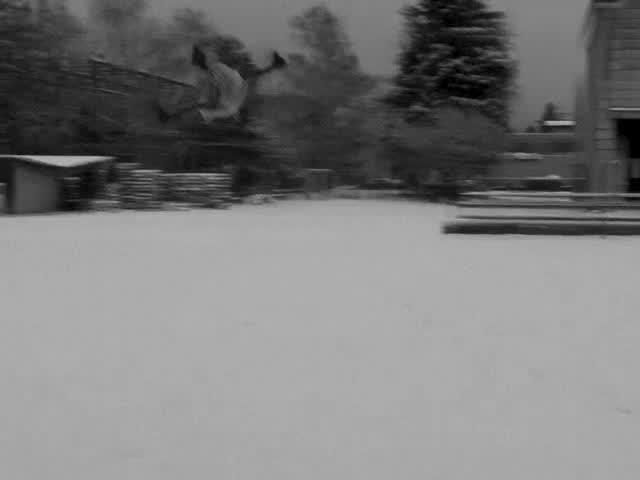drone: (150, 37, 297, 140)
